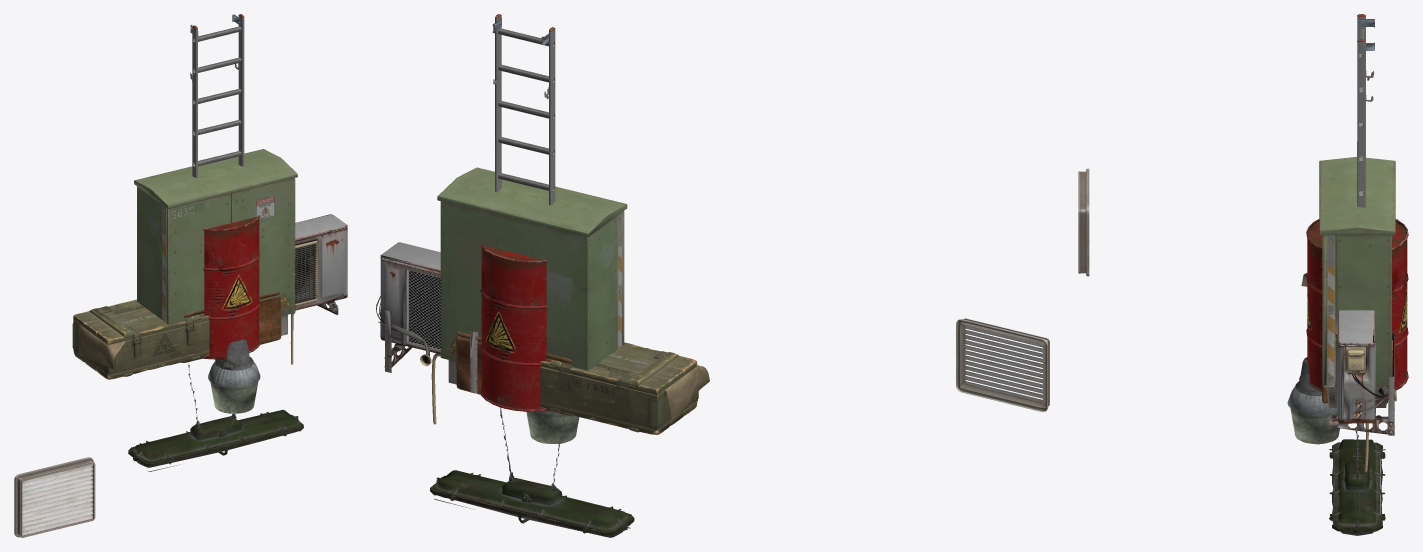
The model's file is rooftop-kit.glb.
3 renders of one model, left to right at view 1: azimuth 30°, elevation 25°; view 2: azimuth 150°, elevation 25°; view 3: azimuth 270°, elevation 25°, orthographic. The views are drawn at different scales.
Visible parts, largest first — view 1: utility_box_02, old_military_crate_lid_a, Barrel_01, modular_airduct_rectangular_01_vent_01, exterior_aircon_unit_rusted, caged_hanging_light, ladder, security_light, wooden_crate_01_lid, security_light_glass; view 2: utility_box_02, old_military_crate_lid_a, Barrel_01, exterior_aircon_unit_rusted, modular_airduct_rectangular_01_vent_01, caged_hanging_light, ladder, security_light_glass, wooden_crate_01_lid; view 3: utility_box_02, exterior_aircon_unit_rusted, Barrel_01, caged_hanging_light, ladder, modular_airduct_rectangular_01_vent_01, security_light, security_light_glass.
Boxes of the visible parts, bbox=[...] form: utility_box_02: bbox=[134, 149, 297, 335]; old_military_crate_lid_a: bbox=[72, 299, 210, 379]; Barrel_01: bbox=[203, 215, 260, 359]; modular_airduct_rectangular_01_vent_01: bbox=[14, 457, 95, 537]; exterior_aircon_unit_rusted: bbox=[290, 214, 347, 364]; caged_hanging_light: bbox=[128, 363, 303, 471]; ladder: bbox=[190, 14, 244, 177]; security_light: bbox=[208, 334, 260, 388]; wooden_crate_01_lid: bbox=[181, 291, 281, 362]; security_light_glass: bbox=[210, 381, 258, 413]; utility_box_02: bbox=[437, 167, 627, 384]; old_military_crate_lid_a: bbox=[540, 342, 709, 434]; Barrel_01: bbox=[480, 244, 547, 411]; exterior_aircon_unit_rusted: bbox=[376, 242, 478, 424]; modular_airduct_rectangular_01_vent_01: bbox=[956, 318, 1049, 412]; caged_hanging_light: bbox=[430, 407, 634, 537]; ladder: bbox=[492, 14, 555, 205]; security_light_glass: bbox=[526, 411, 579, 443]; wooden_crate_01_lid: bbox=[456, 332, 572, 416]; utility_box_02: bbox=[1319, 157, 1395, 407]; exterior_aircon_unit_rusted: bbox=[1328, 310, 1396, 472]; Barrel_01: bbox=[1306, 219, 1408, 391]; caged_hanging_light: bbox=[1329, 423, 1385, 535]; ladder: bbox=[1357, 14, 1374, 207]; modular_airduct_rectangular_01_vent_01: bbox=[1078, 168, 1089, 276]; security_light: bbox=[1287, 357, 1336, 414]; security_light_glass: bbox=[1290, 408, 1339, 444].
Size of the model in its own units: 3.18 by 2.88 by 1.82.
13 materials, 13 textured.
